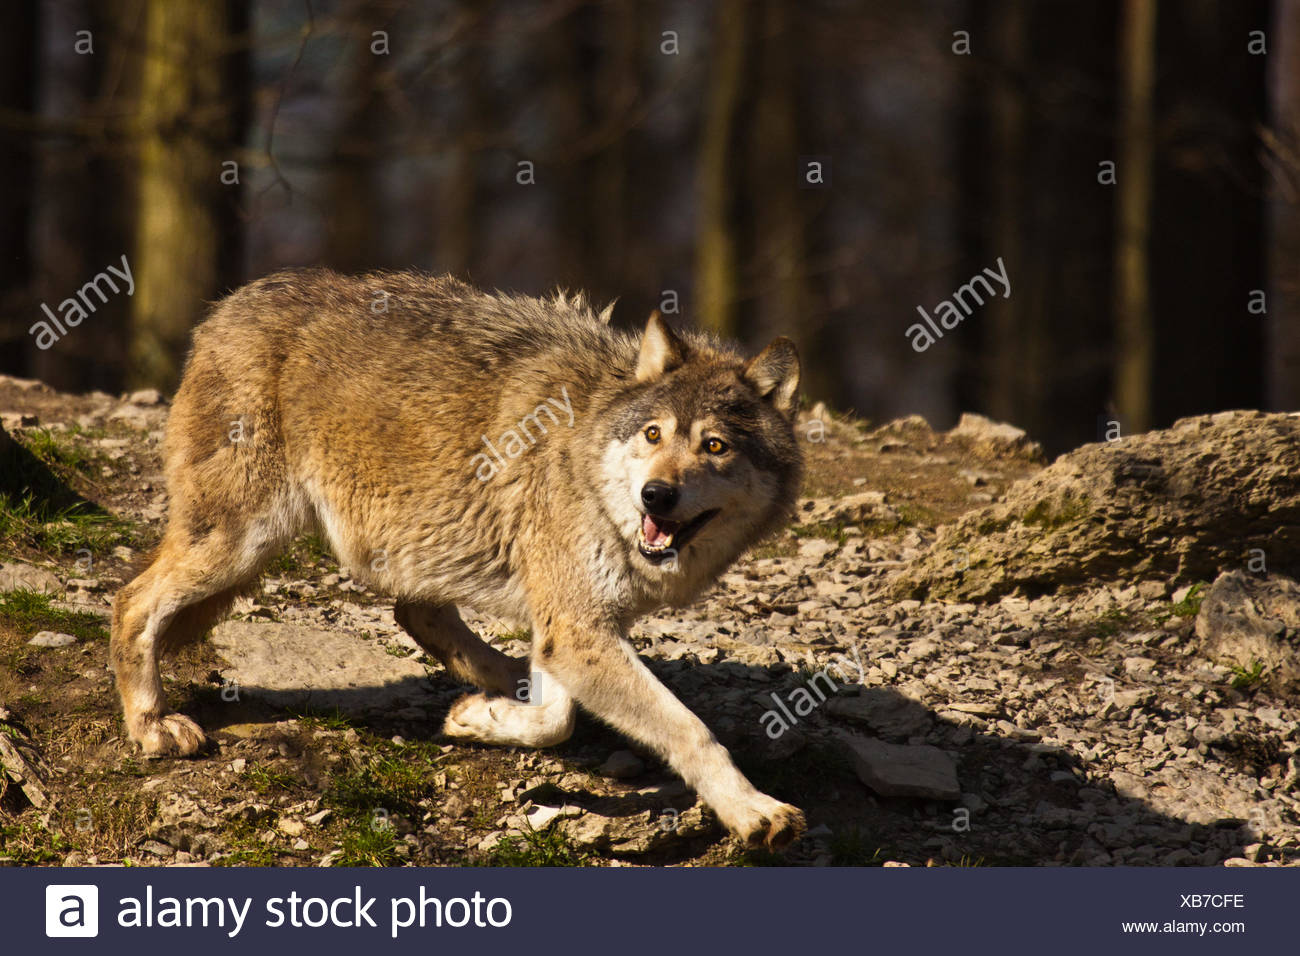Lobo: (92, 258, 838, 855)
